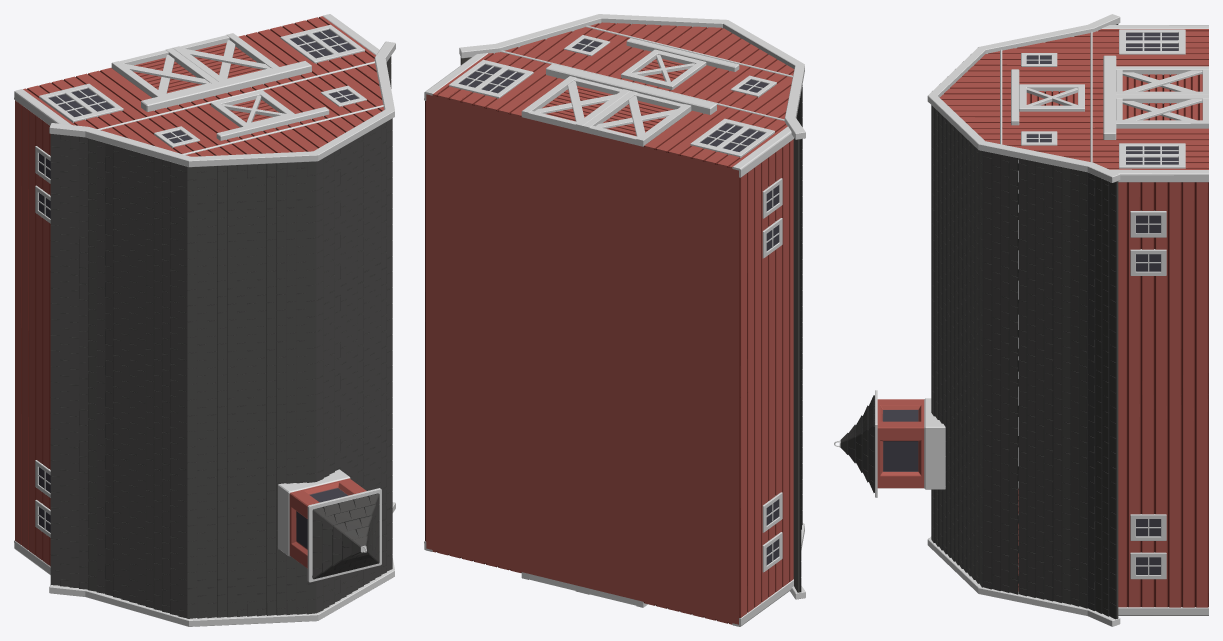
The model's file is Farm.obj.
The picture shows the model from 3 angles, left to right: view 1: azimuth 30°, elevation 25°; view 2: azimuth 150°, elevation 25°; view 3: azimuth 270°, elevation 25°; orthographic projection. The views are drawn at different scales.
Parts seen in each view (by area): view 1: Object.1; view 2: Object.1; view 3: Object.1.
Part boxes in pixels (left/top/right/bottom): Object.1: left=14, top=14, right=395, bottom=626; Object.1: left=424, top=14, right=805, bottom=626; Object.1: left=834, top=14, right=1208, bottom=626.
Bounding box in the file's own units: 35 × 45.52 × 34.01.
